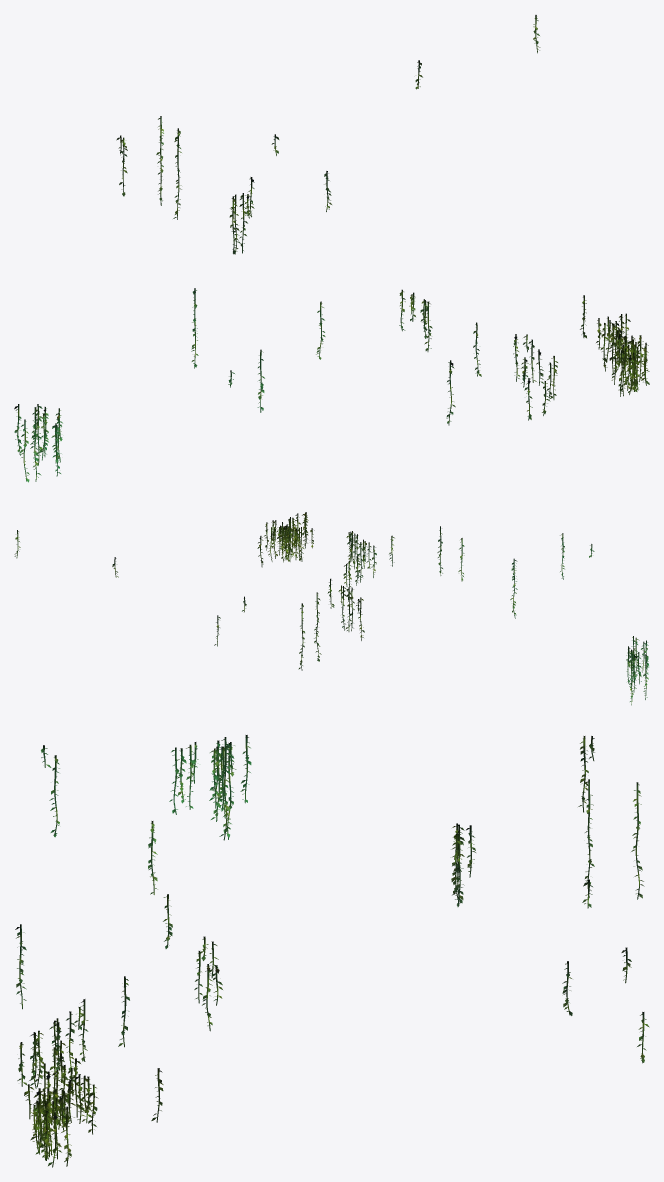
The model's file is prp_cave_vines.glb.
3 views of the same model, one above another, from view 1: azimuth 30°, elevation 25°; view 2: azimuth 150°, elevation 25°; view 3: azimuth 270°, elevation 25° (orthographic). The views are drawn at different scales.
Parts seen in each view (by area): view 1: INST_prp_cave_vines_vines; view 2: INST_prp_cave_vines_vines; view 3: INST_prp_cave_vines_vines.
Boxes of the visible parts, x1,y1,x2,y2 form: INST_prp_cave_vines_vines: (14,15,649,482); INST_prp_cave_vines_vines: (14,512,648,705); INST_prp_cave_vines_vines: (15,735,649,1167).
Bounding box in the file's own units: 42.63 × 11.31 × 26.38.
